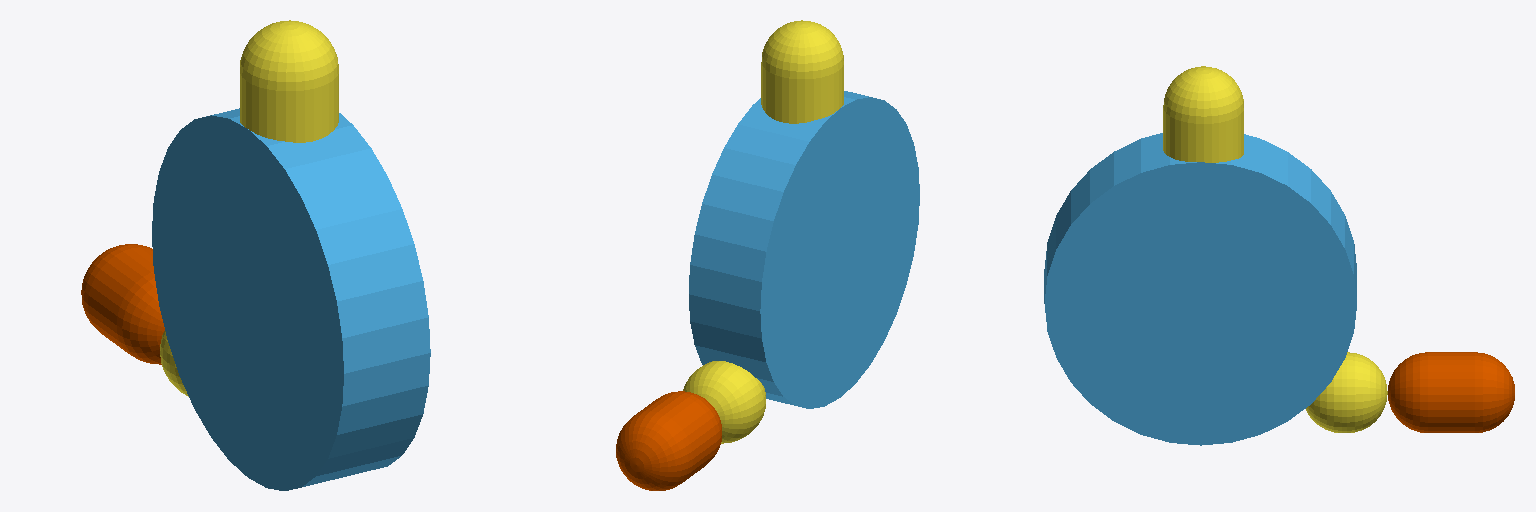
URDF robot description (DexterousHand):
<?xml version="1.0"?>
<robot name="DexterousHand">


    <link name="world"/>
    <joint name="world_to_palm" type="fixed">
        <parent link="world"/>
        <child link="palm"/>
        <origin xyz="0 0 0" rpy="0 0 0"/>
    </joint>
    <link name="palm">
        <inertial>
            <origin xyz="0 0 0.057" rpy="0 0 0"/>
            <mass value="0.30212892864"/>
            <inertia ixx="0.00049080844457568" ixy="0.0" ixz="0.0" iyy="0.00026746366246427523" iyz="0.0" izz="0.00026746366246427523"/>
        </inertial>
        <visual>
            <origin xyz="0 0 0.057" rpy="1.5708 0 1.5708"/>
            <geometry>
                <cylinder radius="0.057" length="0.0296"/>
            </geometry>
            <material name="default"/>
        </visual>
        <collision>
            <origin xyz="0 0 0.057" rpy="1.5708 0 1.5708"/>
            <geometry>
                <cylinder radius="0.057" length="0.0296"/>
            </geometry>
        </collision>
    </link>

    
    <joint name="thumb_joint1" type="revolute">
        <parent link="palm"/>
        <child link="thumb_base"/>
        <origin xyz="0.0029 0.0368 0.0157" rpy="-1.5708 -1.5708 0.0"/>
        <axis xyz="-1 0 0"/>
        <limit lower="-0.349" upper="2.094" effort="1.0" velocity="1.0"/>
    </joint>

    <link name="thumb_base"></link>

    <joint name="thumb_joint2" type="revolute">
        <parent link="thumb_base"/>
        <child link="thumb_proximal"/>
        <origin xyz="0.0 0.0 0.0" rpy="0.0 0.0 0.0"/>
        <axis xyz="0 0 1"/>
        <limit lower="-0.47" upper="2.443" effort="1.0" velocity="1.0"/>
    </joint>

    <link name="thumb_proximal">
        <inertial>
            <origin xyz="0 0 0.01565" rpy="0 0 0"/>
            <mass value="0.021538658803200002"/>
            <inertia ixx="2.9378910096388167e-06" ixy="0.0" ixz="0.0" 
            iyy="2.9378910096388167e-06" iyz="0.0" izz="2.358913912126464e-06"/>
        </inertial>
        <visual>
            <origin xyz="0 0 0.01565" rpy="0 0 0"/>
            <geometry>
                <cylinder radius="0.0148" length="0.0017000000000000001"/>
            </geometry>
            <material name="default"/>
        </visual>
        <visual>
            <origin xyz="0 0 0.0148" rpy="0 0 0"/>
            <geometry>
                <sphere radius="0.0148"/>
            </geometry>
            <material name="default"/>
        </visual>
        <visual>
            <origin xyz="0 0 0.0165" rpy="0 0 0"/>
            <geometry>
                <sphere radius="0.0148"/>
            </geometry>
            <material name="default"/>
        </visual>
        <collision>
            <origin xyz="0 0 0.01565" rpy="0 0 0"/>
            <geometry>
                <cylinder radius="0.0148" length="0.0017000000000000001"/>
            </geometry>
        </collision>
        <collision>
            <origin xyz="0 0 0.0148" rpy="0 0 0"/>
            <geometry>
                <sphere radius="0.0148"/>
            </geometry>
        </collision>
        <collision>
            <origin xyz="0 0 0.0165" rpy="0 0 0"/>
            <geometry>
                <sphere radius="0.0148"/>
            </geometry>
        </collision>
    </link>

    <joint name="thumb_joint3" type="revolute">
        <parent link="thumb_proximal"/>
        <child link="thumb_knuckle"/>
        <origin xyz="0.0 0.0 0.0313" rpy="0.0 0.0 0.0"/>
        <axis xyz="1 0 0"/>
        <limit lower="0.0" upper="0.0" effort="1.0" velocity="1.0"/>
    </joint>

    <link name="thumb_knuckle"></link>

    <joint name="thumb_joint4" type="revolute">
        <parent link="thumb_knuckle"/>
        <child link="thumb_middle"/>
        <origin xyz="0 0 0" rpy="0 0 0"/> 
        <axis xyz="0 1 0"/>
        <limit lower="-1.2" upper="1.9" effort="1.0" velocity="1.0"/>
    </joint>

    <link name="thumb_middle">
        <inertial>
            <origin xyz="0 0 0.0233" rpy="0 0 0"/>
            <mass value="0.032067140582400004"/>
            <inertia ixx="7.5589732685519385e-06" ixy="0.0" ixz="0.0" 
            iyy="7.5589732685519385e-06" iyz="0.0" izz="3.5119932365844485e-06"/>
        </inertial>
        <visual>
            <origin xyz="0 0 0.0233" rpy="0 0 0"/>
            <geometry>
                <cylinder radius="0.0148" length="0.017"/>
            </geometry>
            <material name="default"/>
        </visual>
        <visual>
            <origin xyz="0 0 0.0148" rpy="0 0 0"/>
            <geometry>
                <sphere radius="0.0148"/>
            </geometry>
            <material name="default"/>
        </visual>
        <visual>
            <origin xyz="0 0 0.0318" rpy="0 0 0"/>
            <geometry>
                <sphere radius="0.0148"/>
            </geometry>
            <material name="default"/>
        </visual>
        <collision>
            <origin xyz="0 0 0.0233" rpy="0 0 0"/>
            <geometry>
                <cylinder radius="0.0148" length="0.017"/>
            </geometry>
        </collision>
        <collision>
            <origin xyz="0 0 0.0148" rpy="0 0 0"/>
            <geometry>
                <sphere radius="0.0148"/>
            </geometry>
        </collision>
        <collision>
            <origin xyz="0 0 0.0318" rpy="0 0 0"/>
            <geometry>
                <sphere radius="0.0148"/>
            </geometry>
        </collision>
    </link>

    <joint name="thumb_joint5" type="revolute">
        <parent link="thumb_middle"/>
        <child link="thumb_distal"/>
        <origin xyz="0 0 0.0466" rpy="0 0 0"/> 
        <axis xyz="0 1 0"/>
        <limit lower="0.0" upper="0.0" effort="1.0" velocity="1.0"/>
    </joint>

    <link name="thumb_distal">
    </link>

    
    <joint name="index_joint1" type="revolute">
        <parent link="palm"/>
        <child link="index_proximal"/>
        <origin xyz="0.0 0.0 0.0" rpy="0.0 0.0 0.0"/>
        <axis xyz="1 0 0"/>
        <limit lower="0.0" upper="0.0" effort="1.0" velocity="1.0"/>
    </joint>

    <link name="index_proximal">
    </link>

    <joint name="index_joint2" type="revolute">
        <parent link="index_proximal"/>
        <child link="index_dummy"/>
        <origin xyz="0.0 0.0 0.0" rpy="0.0 0.0 0.0"/>
        <axis xyz="0 1 0"/>
        <limit lower="0.0" upper="0.0" effort="1.0" velocity="1.0"/>
    </joint>

    <link name="index_dummy"></link>

    <joint name="index_joint3" type="revolute">
        <parent link="index_dummy"/>
        <child link="index_middle"/>
        <origin xyz="0 0 0" rpy="0 0 0"/>
        <axis xyz="0 1 0"/>
        <limit lower="0.0" upper="0.0" effort="1.0" velocity="1.0"/>
    </joint>

    <link name="index_middle">
    </link>

    <joint name="index_joint4" type="revolute">
        <parent link="index_middle"/>
        <child link="index_distal"/>
        <origin xyz="0 0 0" rpy="0 0 0"/> 
        <axis xyz="0 1 0"/>
        <limit lower="0.0" upper="0.0" effort="1.0" velocity="1.0"/>
    </joint>

    <link name="index_distal">
    </link>

    
    <joint name="middle_joint1" type="revolute">
        <parent link="palm"/>
        <child link="middle_proximal"/>
        <origin xyz="0.0 0.0011 0.091" rpy="0.0 0.0 0.0"/>
        <axis xyz="0 1 0"/>
        <limit lower="-0.314" upper="2.23" effort="1.0" velocity="1.0"/>
    </joint>

    <link name="middle_proximal">
        <inertial>
            <origin xyz="0 0 0.02655" rpy="0 0 0"/>
            <mass value="0.036540024998400006"/>
            <inertia ixx="1.058665009272394e-05" ixy="0.0" ixz="0.0" 
            iyy="1.058665009272394e-05" iyz="0.0" izz="4.001863537824769e-06"/>
        </inertial>
        <visual>
            <origin xyz="0 0 0.02655" rpy="0 0 0"/>
            <geometry>
                <cylinder radius="0.0148" length="0.0235"/>
            </geometry>
            <material name="default"/>
        </visual>
        <visual>
            <origin xyz="0 0 0.0148" rpy="0 0 0"/>
            <geometry>
                <sphere radius="0.0148"/>
            </geometry>
            <material name="default"/>
        </visual>
        <visual>
            <origin xyz="0 0 0.0383" rpy="0 0 0"/>
            <geometry>
                <sphere radius="0.0148"/>
            </geometry>
            <material name="default"/>
        </visual>
        <collision>
            <origin xyz="0 0 0.02655" rpy="0 0 0"/>
            <geometry>
                <cylinder radius="0.0148" length="0.0235"/>
            </geometry>
        </collision>
        <collision>
            <origin xyz="0 0 0.0148" rpy="0 0 0"/>
            <geometry>
                <sphere radius="0.0148"/>
            </geometry>
        </collision>
        <collision>
            <origin xyz="0 0 0.0383" rpy="0 0 0"/>
            <geometry>
                <sphere radius="0.0148"/>
            </geometry>
        </collision>
    </link>

    <joint name="middle_joint2" type="revolute">
        <parent link="middle_proximal"/>
        <child link="middle_dummy"/>
        <origin xyz="0.0 0.0 0.038" rpy="0.0 0.0 0.0"/>
        <axis xyz="0 1 0"/>
        <limit lower="0.0" upper="0.0" effort="1.0" velocity="1.0"/>
    </joint>

    <link name="middle_dummy"></link>

    <joint name="middle_joint3" type="revolute">
        <parent link="middle_dummy"/>
        <child link="middle_middle"/>
        <origin xyz="0 0 0.015100000000000002" rpy="0 0 0"/>
        <axis xyz="0 1 0"/>
        <limit lower="0.0" upper="0.0" effort="1.0" velocity="1.0"/>
    </joint>

    <link name="middle_middle">
    </link>

    <joint name="middle_joint4" type="revolute">
        <parent link="middle_middle"/>
        <child link="middle_distal"/>
        <origin xyz="0 0 0" rpy="0 0 0"/> 
        <axis xyz="0 1 0"/>
        <limit lower="0.0" upper="0.0" effort="1.0" velocity="1.0"/>
    </joint>

    <link name="middle_distal">
    </link>

    
    <joint name="ring_joint1" type="revolute">
        <parent link="palm"/>
        <child link="ring_proximal"/>
        <origin xyz="0.0 0.0 0.0" rpy="0.0 0.0 0.0"/>
        <axis xyz="1 0 0"/>
        <limit lower="0.0" upper="0.0" effort="1.0" velocity="1.0"/>
    </joint>

    <link name="ring_proximal">
    </link>

    <joint name="ring_joint2" type="revolute">
        <parent link="ring_proximal"/>
        <child link="ring_dummy"/>
        <origin xyz="0.0 0.0 0.0" rpy="0.0 0.0 0.0"/>
        <axis xyz="0 1 0"/>
        <limit lower="0.0" upper="0.0" effort="1.0" velocity="1.0"/>
    </joint>

    <link name="ring_dummy"></link>

    <joint name="ring_joint3" type="revolute">
        <parent link="ring_dummy"/>
        <child link="ring_middle"/>
        <origin xyz="0 0 0" rpy="0 0 0"/>
        <axis xyz="0 1 0"/>
        <limit lower="0.0" upper="0.0" effort="1.0" velocity="1.0"/>
    </joint>

    <link name="ring_middle">
    </link>

    <joint name="ring_joint4" type="revolute">
        <parent link="ring_middle"/>
        <child link="ring_distal"/>
        <origin xyz="0 0 0" rpy="0 0 0"/> 
        <axis xyz="0 1 0"/>
        <limit lower="0.0" upper="0.0" effort="1.0" velocity="1.0"/>
    </joint>

    <link name="ring_distal">
    </link>

    
    <joint name="little_joint0" type="revolute">
        <parent link="palm"/>
        <child link="little_base"/>
        <origin xyz="0.0 0.0 0.0" rpy="0.0 0.0 0.0"/>
        <axis xyz="0 1 0"/>
        <limit lower="0.0" upper="0.0" effort="1.0" velocity="1.0"/>
    </joint>

    <link name="little_base"></link>

    <joint name="little_joint1" type="revolute">
        <parent link="little_base"/>
        <child link="little_proximal"/>
        <origin xyz="0.0 0.0 0.0" rpy="-0.0 -0.0 -0.0"/>
        <axis xyz="1 0 0"/>
        <limit lower="0.0" upper="0.0" effort="1.0" velocity="1.0"/>
    </joint>

    <link name="little_proximal">
    </link>

    <joint name="little_joint2" type="revolute">
        <parent link="little_proximal"/>
        <child link="little_dummy"/>
        <origin xyz="0.0 0.0 0.0" rpy="0.0 0.0 0.0"/>
        <axis xyz="0 1 0"/>
        <limit lower="0.0" upper="0.0" effort="1.0" velocity="1.0"/>
    </joint>

    <link name="little_dummy"></link>

    <joint name="little_joint3" type="revolute">
        <parent link="little_dummy"/>
        <child link="little_middle"/>
        <origin xyz="0 0 0" rpy="0 0 0"/>
        <axis xyz="0 1 0"/>
        <limit lower="0.0" upper="0.0" effort="1.0" velocity="1.0"/>
    </joint>

    <link name="little_middle">
    </link>

    <joint name="little_joint4" type="revolute">
        <parent link="little_middle"/>
        <child link="little_distal"/>
        <origin xyz="0 0 0" rpy="0 0 0"/>
        <axis xyz="0 1 0"/>
        <limit lower="0.0" upper="0.0" effort="1.0" velocity="1.0"/>
    </joint>

    <link name="little_distal">
    </link>

</robot>

--- Render facts (derived) ---
3 views of the same robot in one strip: view 1: azimuth 30°, elevation 25°; view 2: azimuth 150°, elevation 25°; view 3: azimuth 270°, elevation 25° (orthographic).
Model DexterousHand with 24 links and 23 joints (22 revolute, 1 fixed), rooted at world, posed all joints at 0.
Visible links, largest first — view 1: palm, middle_proximal, thumb_middle, thumb_proximal; view 2: palm, thumb_middle, middle_proximal, thumb_proximal; view 3: palm, thumb_middle, middle_proximal, thumb_proximal.
Boxes of the visible links, x1,y1,x2,y2 form: palm: (152, 108, 430, 490); middle_proximal: (240, 20, 338, 142); thumb_middle: (81, 244, 164, 364); thumb_proximal: (160, 331, 188, 396); palm: (689, 91, 919, 408); thumb_middle: (616, 391, 721, 490); middle_proximal: (761, 20, 843, 123); thumb_proximal: (683, 361, 765, 443); palm: (1044, 133, 1356, 445); thumb_middle: (1388, 352, 1514, 432); middle_proximal: (1163, 66, 1243, 162); thumb_proximal: (1306, 352, 1387, 432).
Size in the robot's own frame: 0.0325 by 0.1717 by 0.1441 metres.
Geometry: primitives only (box / cylinder / sphere), no mesh files.
